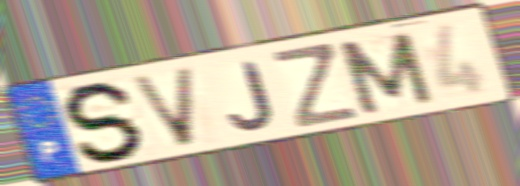4: (431, 20, 489, 100)
J: (226, 58, 278, 132)
M: (333, 29, 438, 118)
S: (61, 79, 148, 164)
V: (127, 64, 199, 150)
Z: (269, 41, 362, 131)
